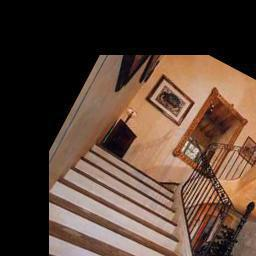Escaleras: (26, 96, 256, 256)
